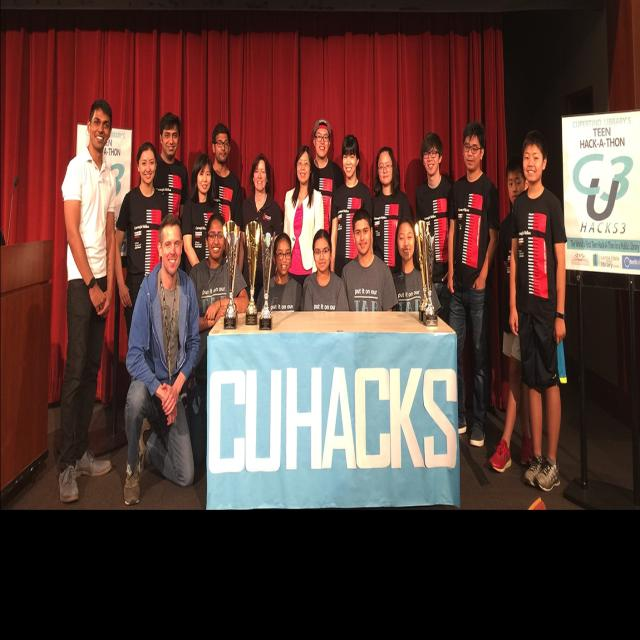body: (54, 95, 120, 508), (122, 212, 203, 510), (507, 127, 568, 495), (446, 119, 502, 449), (184, 211, 251, 461), (486, 152, 530, 478), (114, 140, 170, 340), (414, 130, 453, 325), (239, 152, 285, 305), (329, 132, 375, 278), (340, 206, 400, 312), (282, 142, 324, 286), (389, 215, 443, 319), (180, 150, 222, 278), (371, 146, 413, 271), (210, 121, 244, 266), (300, 227, 350, 313), (152, 112, 190, 225), (312, 117, 345, 238), (255, 232, 303, 312)
